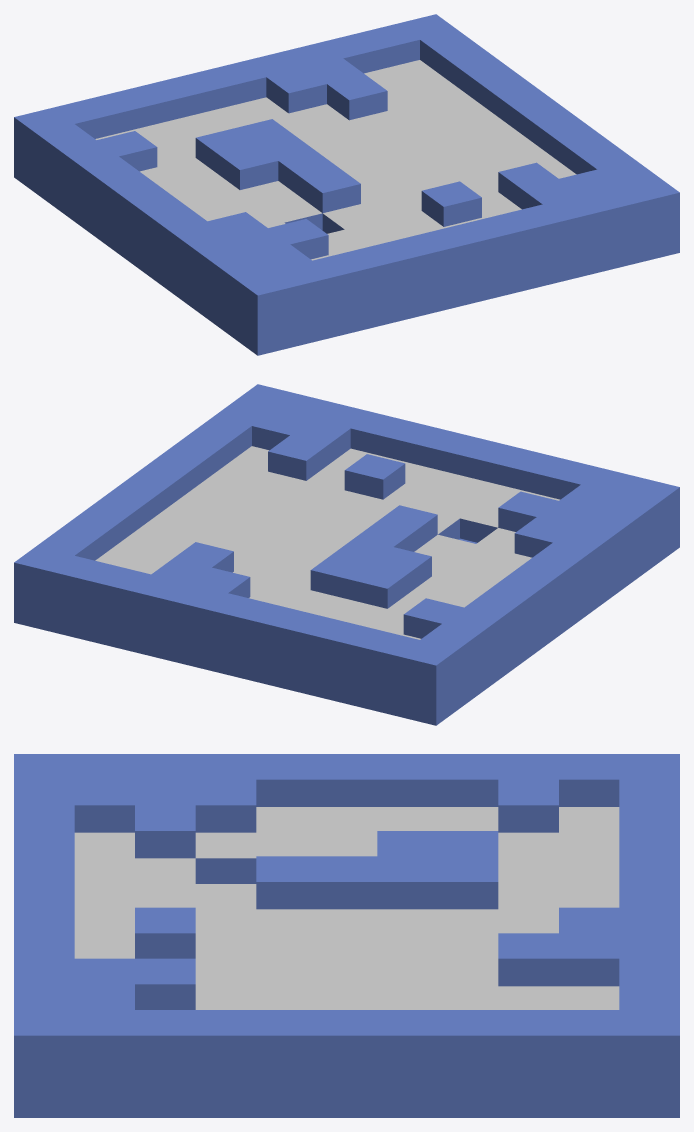
File: 037_platform.fbx
The picture shows the model from 3 angles, top to bottom: view 1: azimuth 30°, elevation 25°; view 2: azimuth 150°, elevation 25°; view 3: azimuth 270°, elevation 25°; orthographic projection. The views are drawn at different scales.
Parts seen in each view (by area): view 1: Cube; view 2: Cube; view 3: Cube.
Part boxes in pixels (bbox=[...]): Cube: bbox=[14, 14, 679, 355]; Cube: bbox=[14, 384, 679, 725]; Cube: bbox=[14, 754, 679, 1117].
Size of the model in its own units: 1100 by 150 by 1100.
